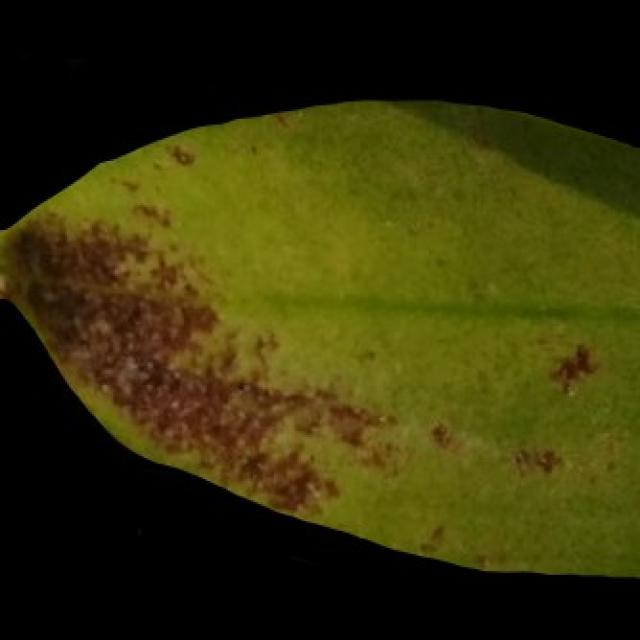mite: (161, 138, 199, 171), (416, 519, 446, 554), (535, 445, 561, 473), (167, 142, 194, 167), (427, 420, 450, 446)
spots: (0, 96, 638, 581)
sunburn: (8, 197, 404, 517)
